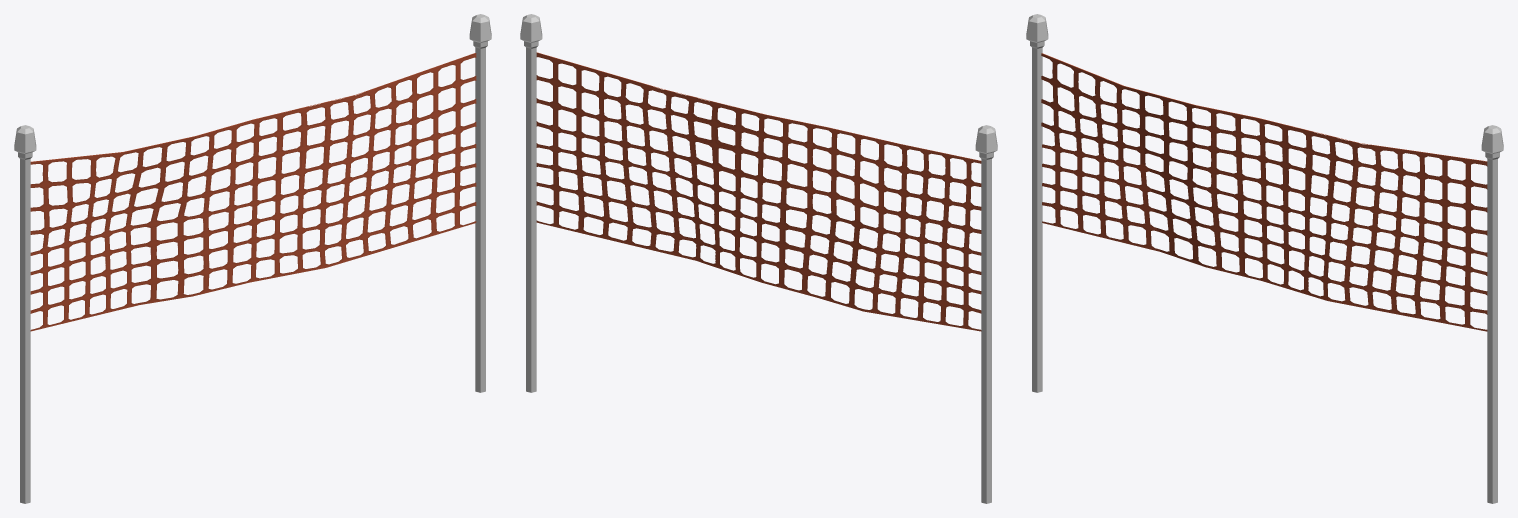
The model's file is SM_Prop_Barrier_Short_09.fbx.
3 views of the same model, side by side, from view 1: azimuth 30°, elevation 25°; view 2: azimuth 150°, elevation 25°; view 3: azimuth 330°, elevation 25° (orthographic).
Parts seen in each view (by area): view 1: SM_Prop_Barrier_Short_09; view 2: SM_Prop_Barrier_Short_09; view 3: SM_Prop_Barrier_Short_09.
Part boxes in pixels (bbox=[...]): SM_Prop_Barrier_Short_09: bbox=[14, 14, 491, 503]; SM_Prop_Barrier_Short_09: bbox=[520, 14, 997, 503]; SM_Prop_Barrier_Short_09: bbox=[1026, 14, 1503, 503].
Size of the model in its own units: 262 by 196 by 11.06.
